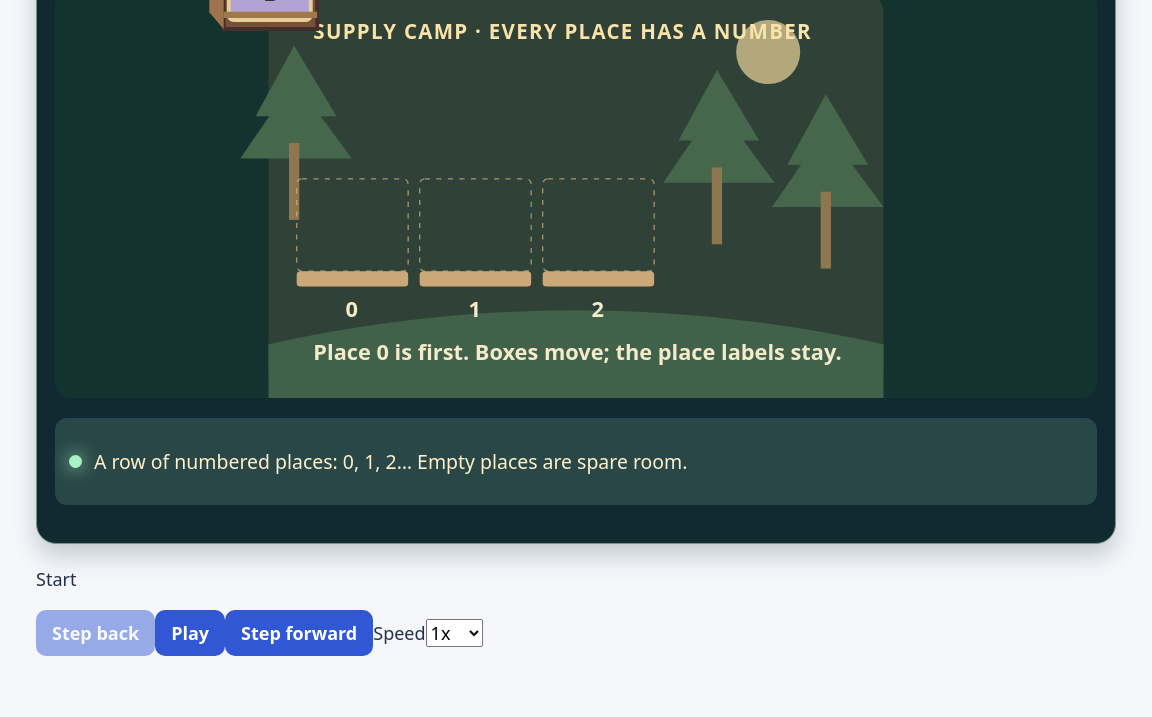
Test: child-friendly structure stories › uses the matching event when a recorded program is stepped backwards and forwards
(page scrolled)
Click the button "Step forward".
click(299, 633)  # box [225,610,373,656]
(page scrolled)
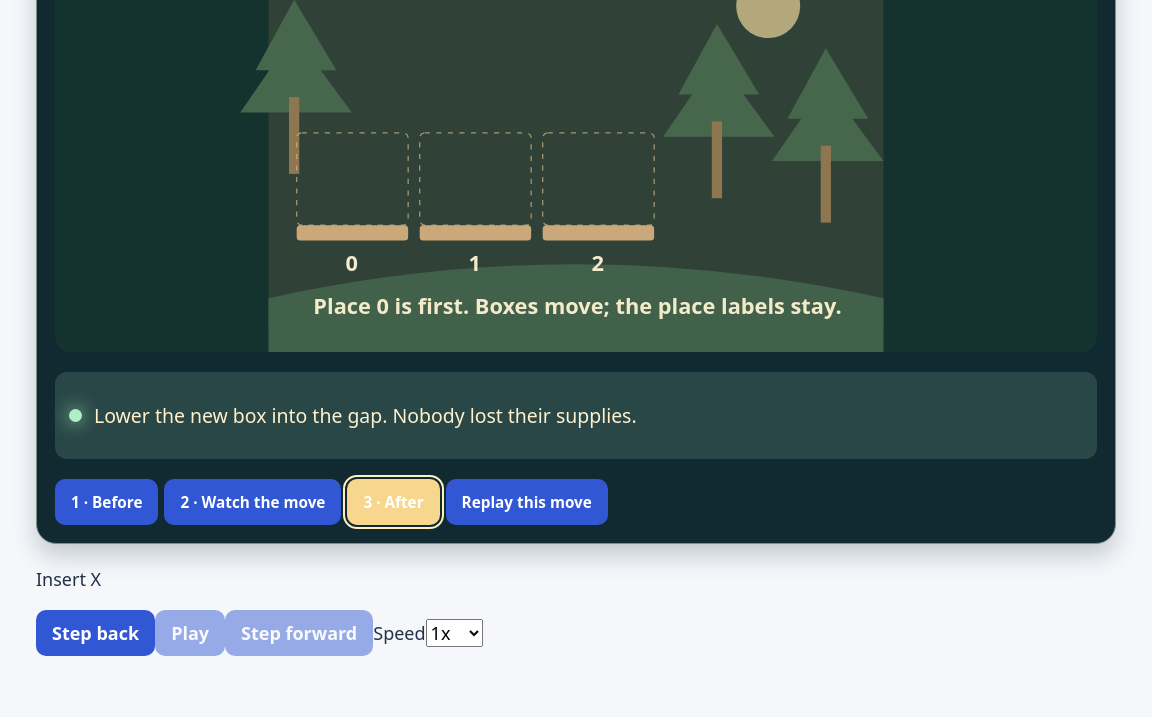
Click the button "1 · Before".
click(107, 502)  # box [55,478,158,525]
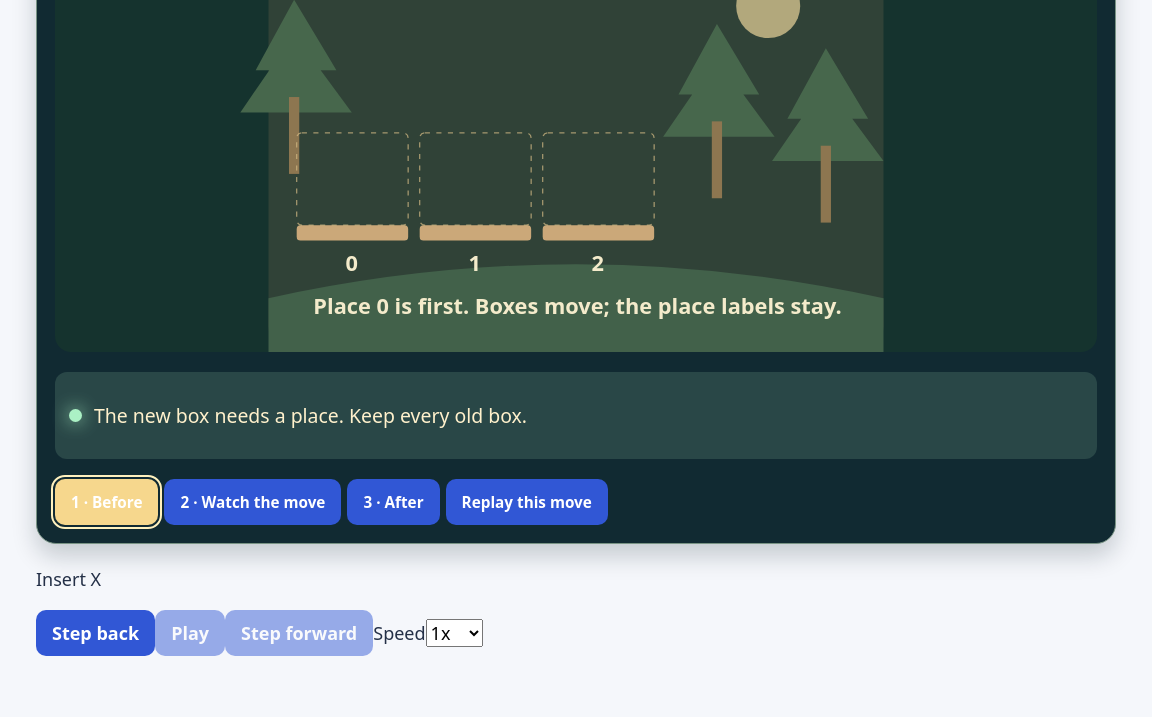
Expected: the text "The new box needs a place. Keep every old box." is shown, [55,372,1097,459]
Click the button "Step back".
click(96, 633)  # box [36,610,155,656]
(page scrolled)
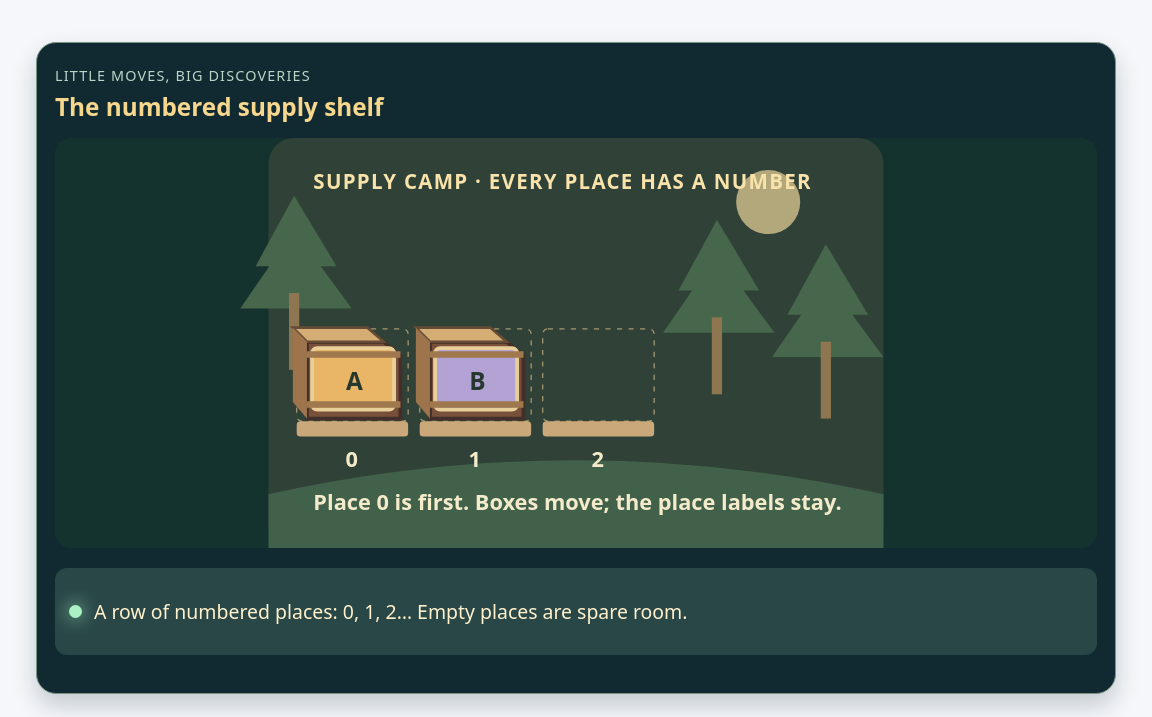
Expected: the heading "The numbered supply shelf" is shown, [55,90,383,123]
Expected: the button "Replay this move" is gone
